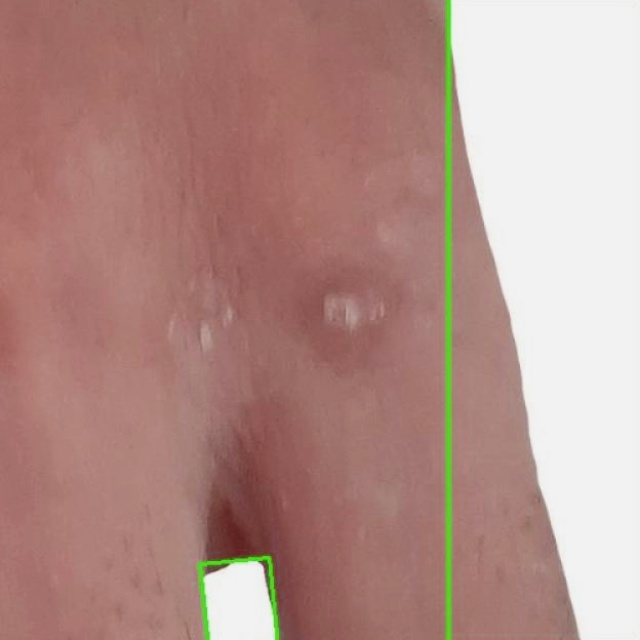Scabies: (449, 0, 639, 639), (199, 558, 277, 639)
